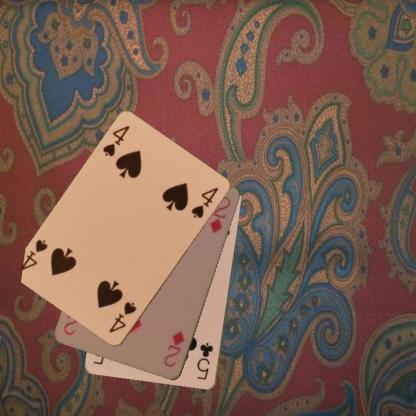2d: (161, 328, 186, 368)
4s: (106, 300, 138, 334), (100, 123, 131, 158)
5c: (194, 340, 214, 382)
